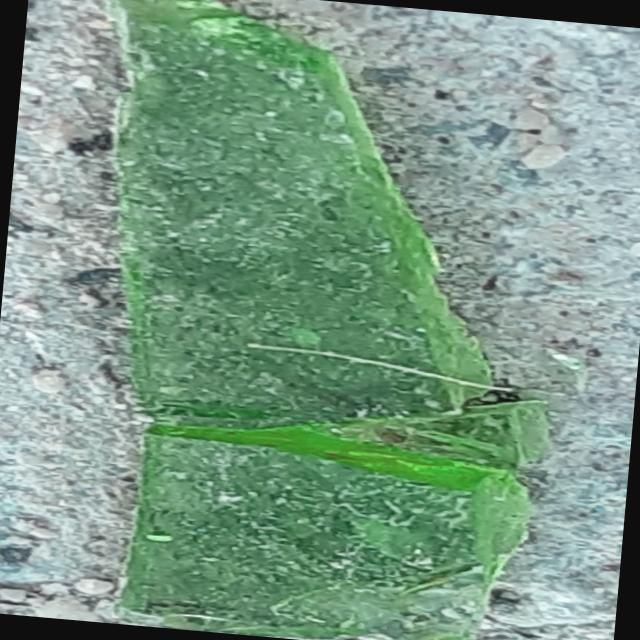Dry: (132, 7, 462, 423), (122, 430, 527, 625)
